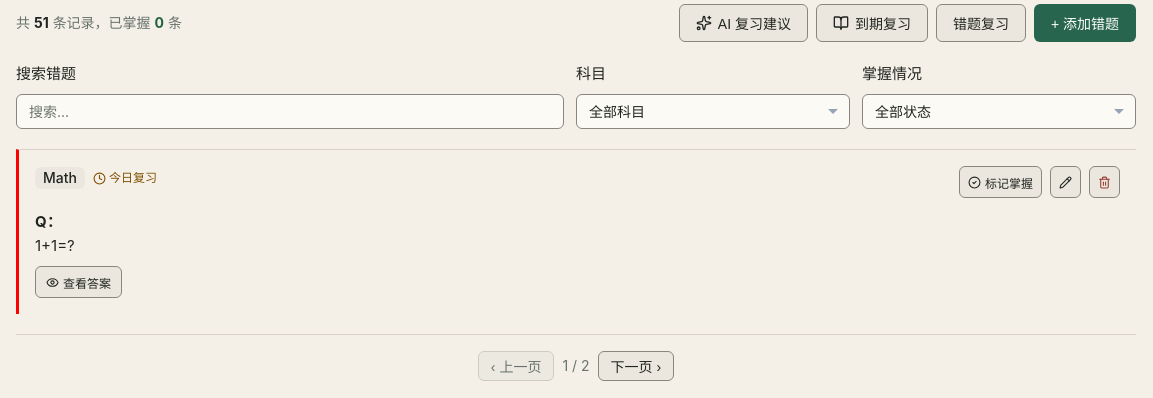
MistakeBook Component › returns to the last valid page after 删除错题 removes the only result on page two
Expected: the text "1 / 2" is shown, [562,356,590,376]
Select "Math" in the dropdown with test id "mistake-subject-filter". click: (713, 112)
box: [576,94,850,129]
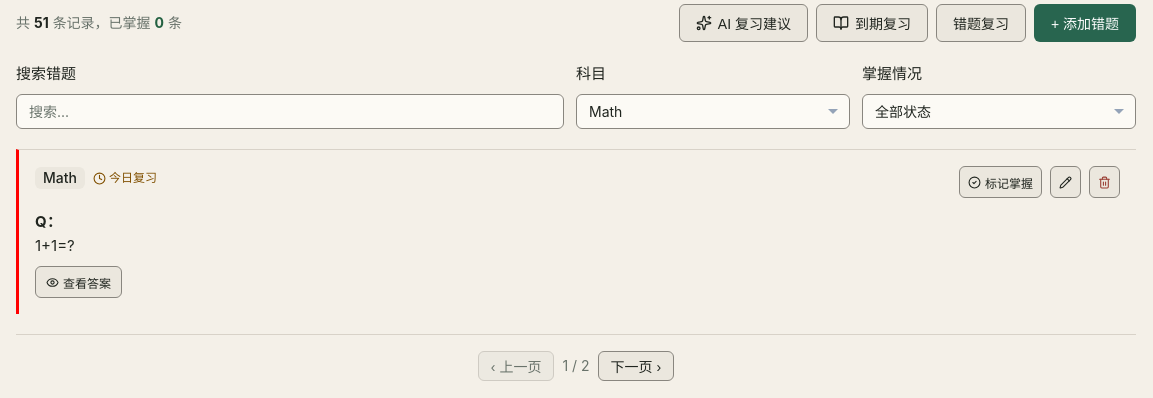
Click the button "下一页 ›". click: (636, 366)
box: [598,351,674,381]
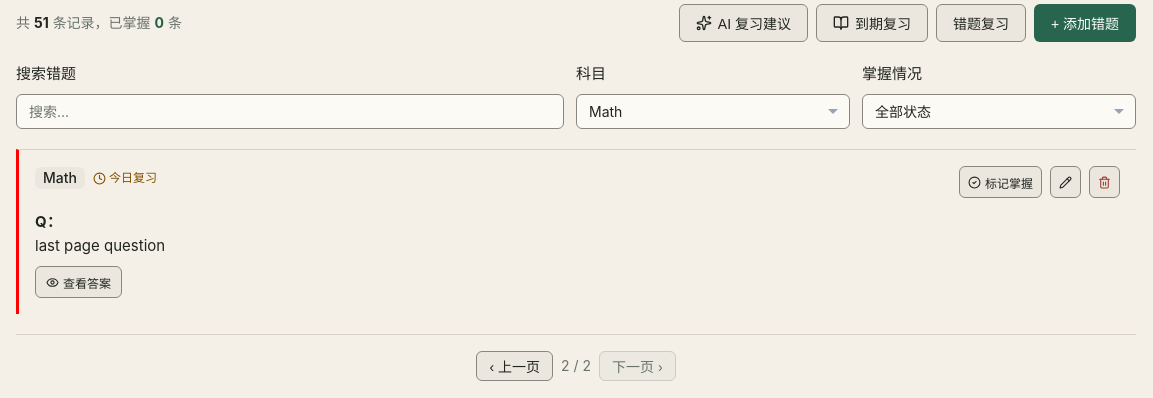
Result: the text "last page question" is shown at [35,236,165,255]
Click the button named "删除错题". click: (1104, 182)
box: [1089,166,1120,198]
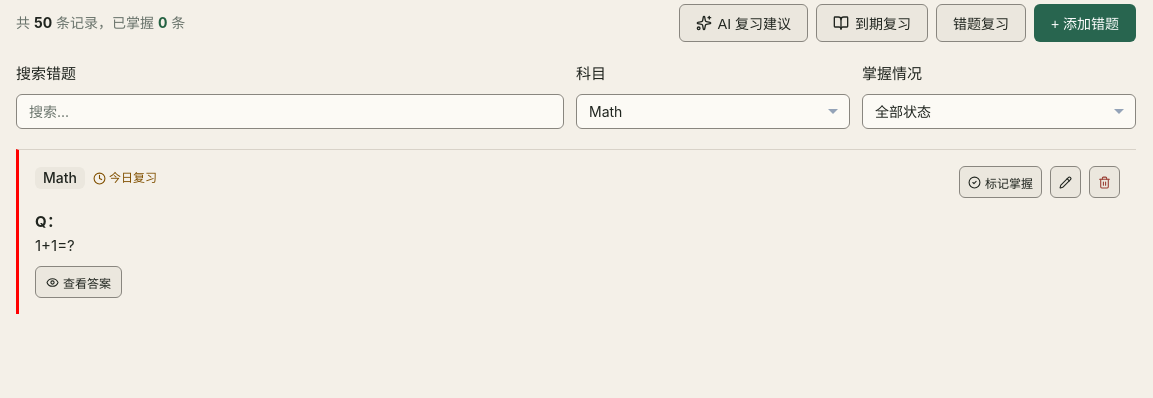
Result: the text "1+1=?" is shown at [35,236,75,255]
Result: the text "last page question" is gone
Result: the navigation bar "错题分页" is gone
